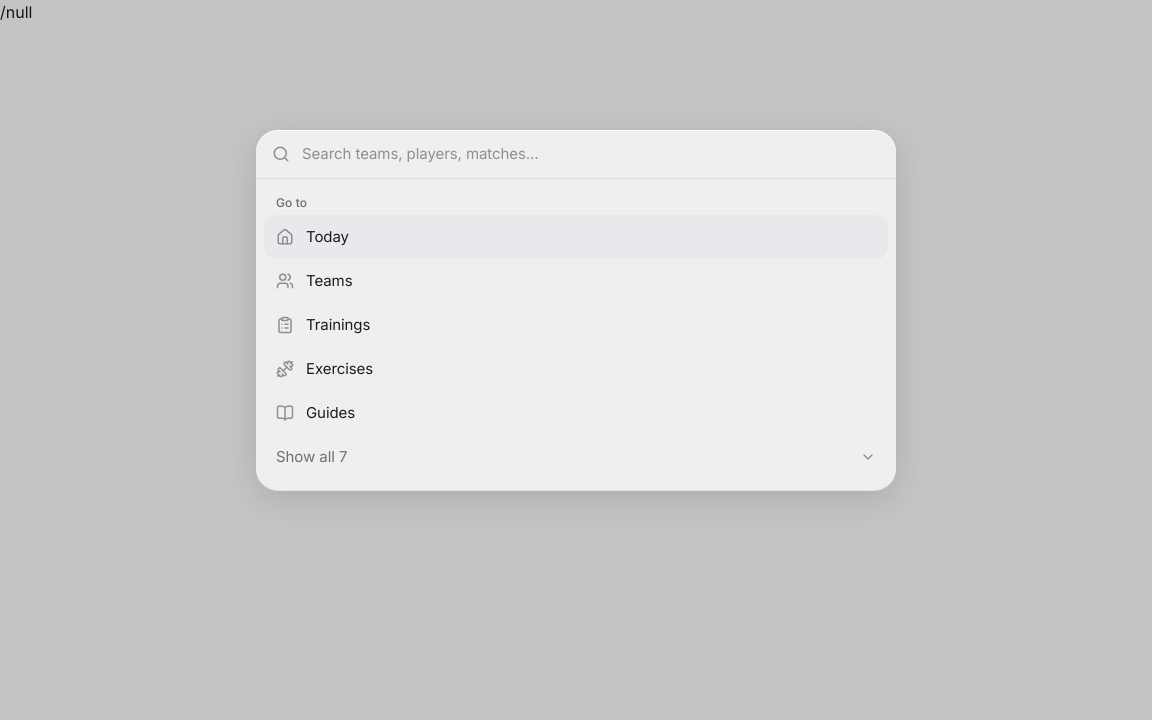
SearchPalette › caps groups at 5 with a Show all N option reachable by keyboard
Type "anna" into the dropdown at [591, 154], box [302,130,880,178]
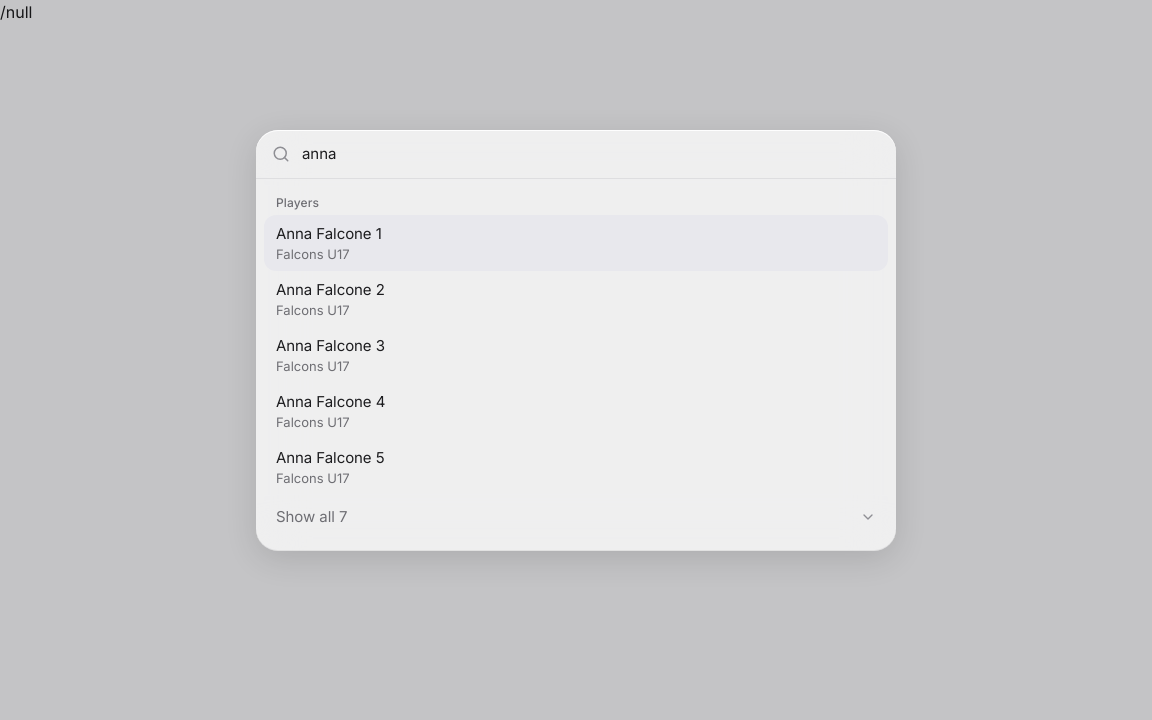
Expected: the number of options is 6, [264,215,888,271]; [276,280,385,318]; [276,336,385,374]; [276,392,385,430]; [276,448,384,486]; [276,507,876,526]
Press ArrowDown in the dropdown, box [302,130,880,178]
Press ArrowDown in the dropdown, box [302,130,880,178]
Press ArrowDown in the dropdown, box [302,130,880,178]
Press ArrowDown in the dropdown, box [302,130,880,178]
Press ArrowDown in the dropdown, box [302,130,880,178]
Expected: the text "Show all 7" is shown, [276,507,347,526]
Press Enter in the dropdown, box [302,130,880,178]
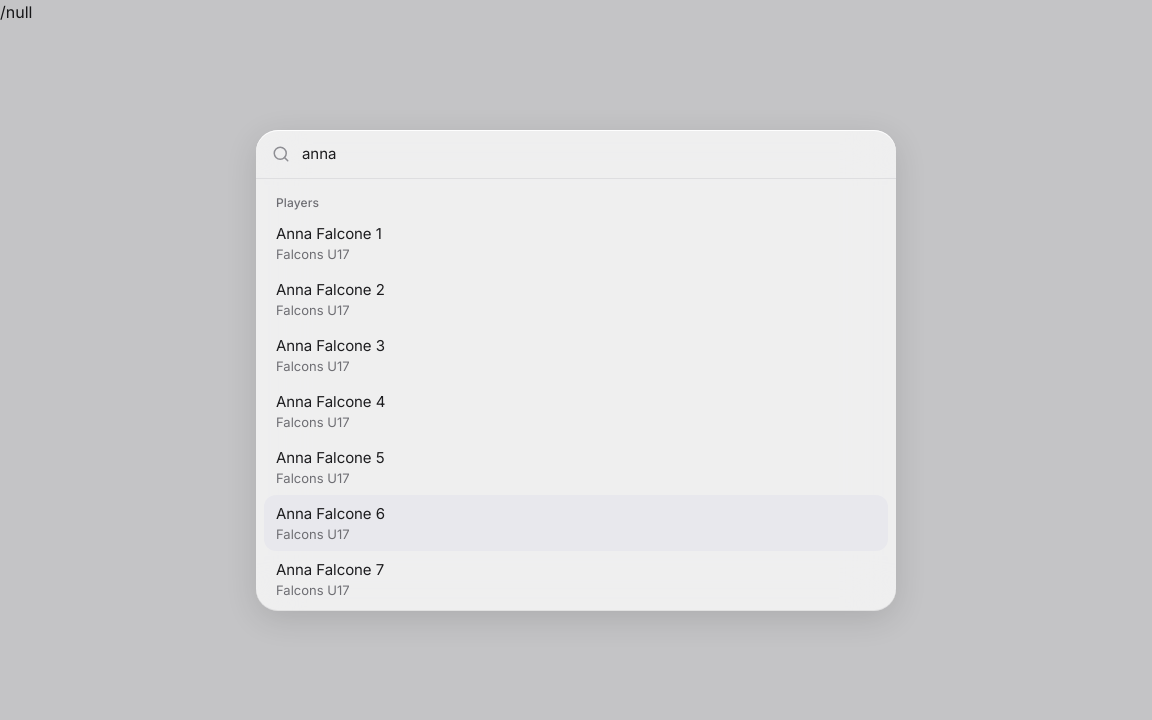
Expected: the number of options is 7
Expected: the option "Show all 7" is gone
